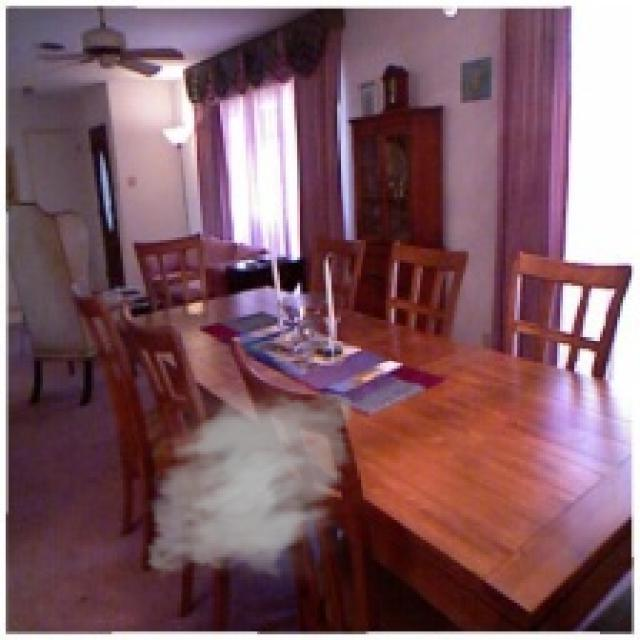Smoke: (137, 372, 363, 588)
